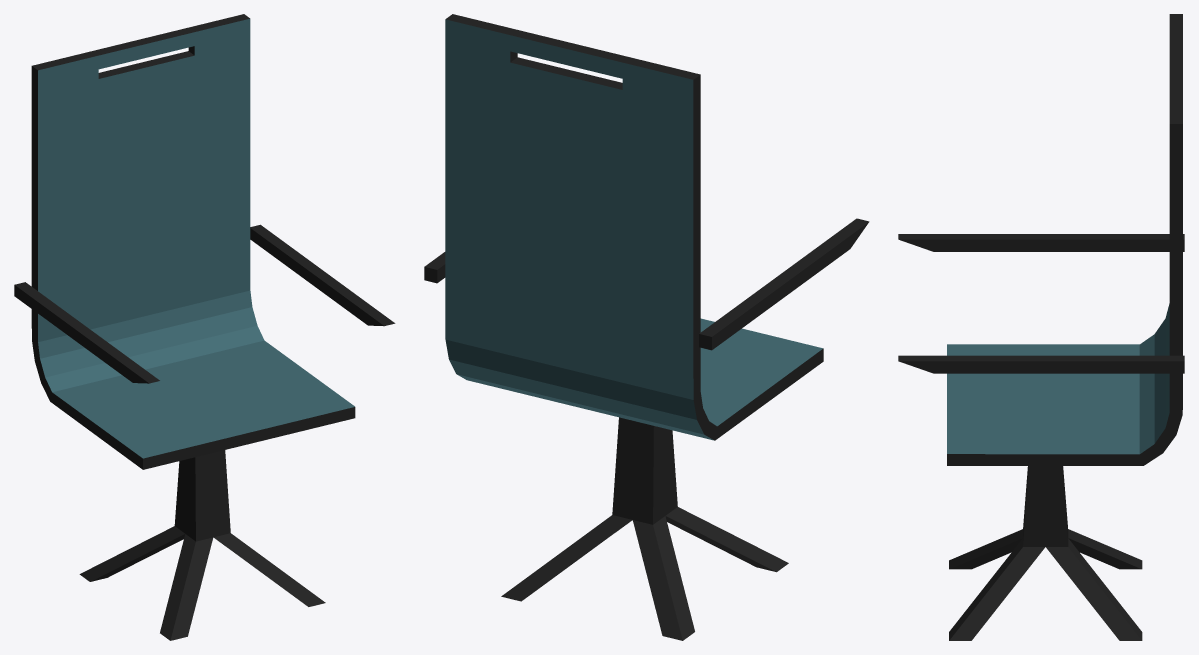
The model's file is officeChair.fbx.
The picture shows the model from 3 angles, left to right: view 1: azimuth 30°, elevation 25°; view 2: azimuth 150°, elevation 25°; view 3: azimuth 270°, elevation 25°; orthographic projection. The views are drawn at different scales.
Visible parts, largest first — view 1: officeChair.006; view 2: officeChair.006; view 3: officeChair.006.
Part boxes in pixels (x1,y1,x2,y2): officeChair.006: [14, 14, 395, 640]; officeChair.006: [424, 14, 869, 640]; officeChair.006: [898, 14, 1184, 640].
Bounding box in the file's own units: 0.2037 × 0.3965 × 0.1935.
